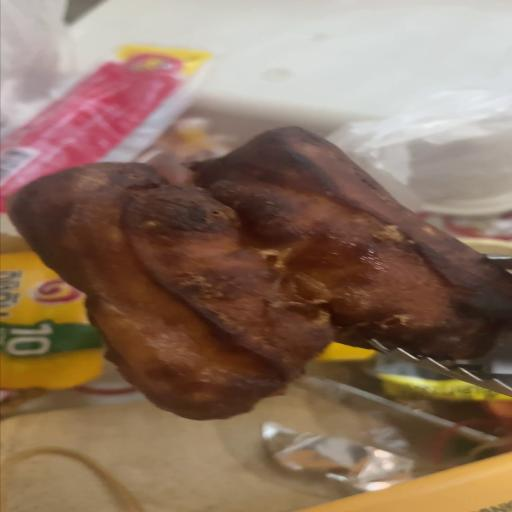street_burnt_defect: (5, 128, 511, 418)
